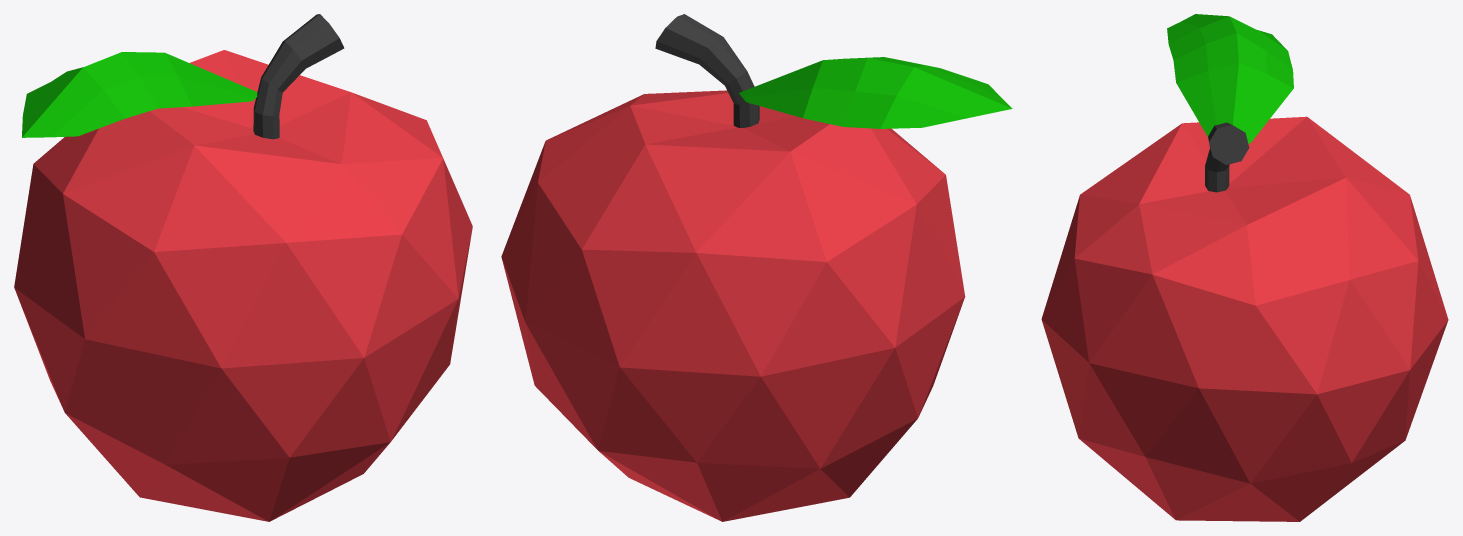
Rendered from apple.fbx.
The picture shows the model from 3 angles, left to right: view 1: azimuth 30°, elevation 25°; view 2: azimuth 150°, elevation 25°; view 3: azimuth 270°, elevation 25°; orthographic projection. The views are drawn at different scales.
Parts seen in each view (by area): view 1: Plane; view 2: Plane; view 3: Plane.
Boxes of the visible parts, x1=… form: Plane: x1=14, y1=14, x2=472, y2=521; Plane: x1=501, y1=14, x2=1012, y2=521; Plane: x1=1041, y1=14, x2=1448, y2=521.
Bounding box in the file's own units: 78.33 × 79.26 × 68.63.
